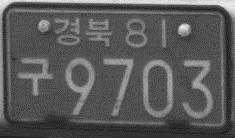0: (140, 56, 175, 119)
1: (157, 16, 171, 50)
3: (180, 58, 215, 120)
7: (100, 56, 136, 117)
8: (124, 16, 148, 48)
9: (63, 55, 96, 118)
경북_O: (52, 16, 113, 49)
구: (16, 55, 55, 95)
